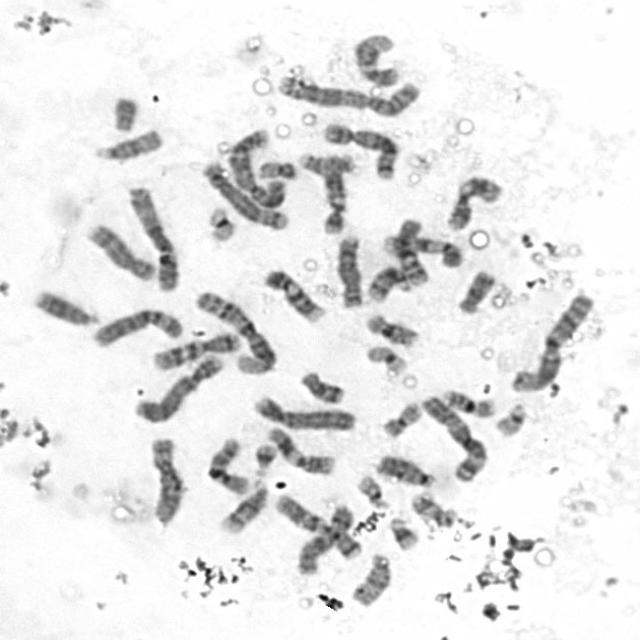A1: (507, 288, 597, 394), (190, 286, 278, 376)
A2: (272, 70, 425, 118), (223, 122, 290, 210)
A3: (416, 389, 492, 484), (123, 181, 182, 293)
B4: (129, 349, 225, 425), (250, 391, 360, 434)
B5: (197, 157, 291, 230), (318, 118, 401, 181)
C10: (202, 433, 253, 496), (391, 215, 430, 287)
C11: (261, 422, 337, 476), (441, 169, 505, 232)
C12: (350, 27, 404, 88), (318, 152, 352, 236)
C6: (87, 303, 187, 349), (144, 432, 187, 528)
C7: (270, 488, 366, 560), (146, 327, 243, 372)
C8: (82, 218, 160, 283), (331, 230, 365, 309)
C9: (260, 264, 326, 324), (376, 229, 465, 269)
D13: (28, 285, 102, 328), (371, 449, 438, 489)
D14: (214, 475, 272, 536), (362, 261, 414, 304)
D15: (88, 123, 166, 162), (347, 548, 394, 608)
E16: (361, 308, 422, 349), (437, 383, 499, 419)
E17: (408, 487, 460, 528), (294, 147, 358, 176)
E18: (452, 265, 498, 316), (294, 365, 348, 406)
F19: (360, 340, 410, 376), (202, 202, 239, 244)
F20: (378, 396, 425, 439), (254, 156, 300, 181)
G21: (385, 511, 422, 551), (249, 439, 278, 477)
G22: (491, 398, 529, 439), (353, 470, 391, 510)
X: (292, 499, 356, 577)
Y: (108, 91, 141, 132)
